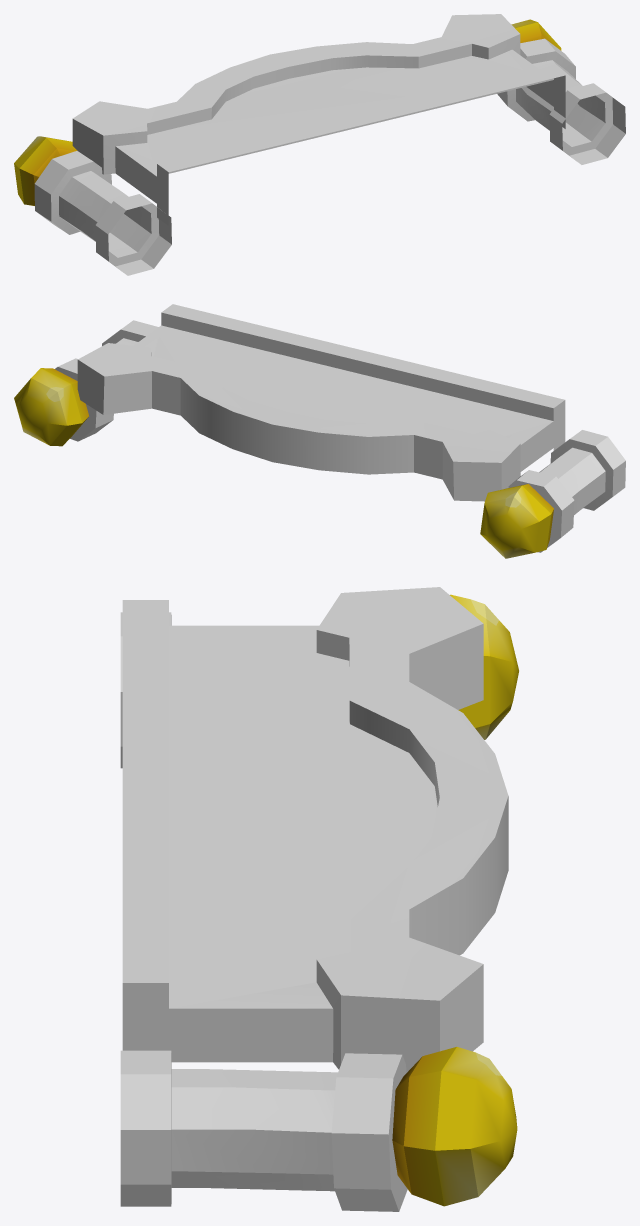
The model's file is HolidaySign.fbx.
The picture shows the model from 3 angles, top to bottom: view 1: azimuth 30°, elevation 25°; view 2: azimuth 150°, elevation 25°; view 3: azimuth 270°, elevation 25°; orthographic projection. The views are drawn at different scales.
Parts seen in each view (by area): view 1: HolidaySign, HolidaySignPostA, HolidaySignPostB; view 2: HolidaySign, HolidaySignPostA, HolidaySignPostB; view 3: HolidaySign, HolidaySignPostB, HolidaySignPostA.
Part boxes in pixels (left/top/right/bottom): HolidaySign: left=72, top=14, right=565, bottom=225; HolidaySignPostA: left=14, top=136, right=171, bottom=275; HolidaySignPostB: left=497, top=19, right=625, bottom=164; HolidaySign: left=77, top=304, right=565, bottom=501; HolidaySignPostA: left=480, top=430, right=625, bottom=558; HolidaySignPostB: left=14, top=320, right=158, bottom=446; HolidaySign: left=122, top=587, right=508, bottom=1072; HolidaySignPostB: left=120, top=1047, right=517, bottom=1211; HolidaySignPostA: left=120, top=594, right=518, bottom=768.
Bounding box in the file's own units: 332 × 54.81 × 107.
